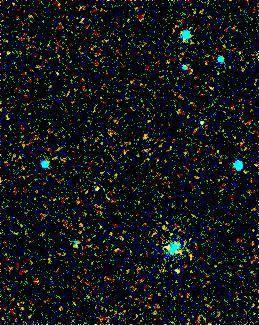star: (164, 259, 194, 289)
